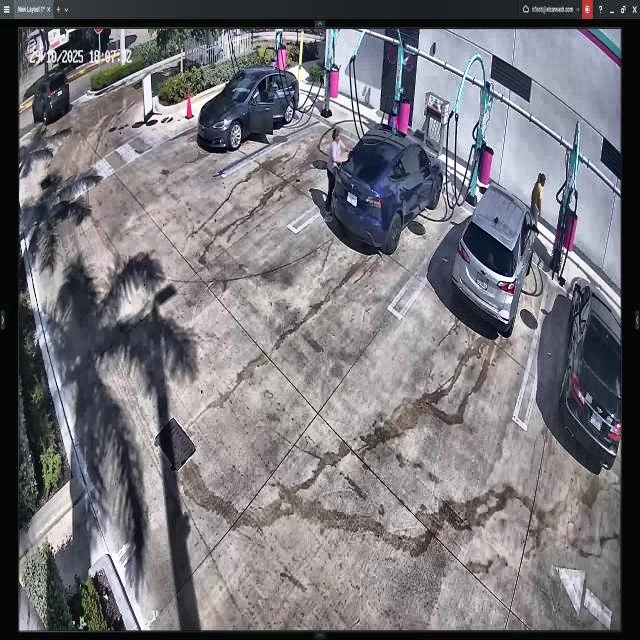Car: (329, 122, 442, 253), (452, 186, 538, 334), (197, 66, 295, 152)
